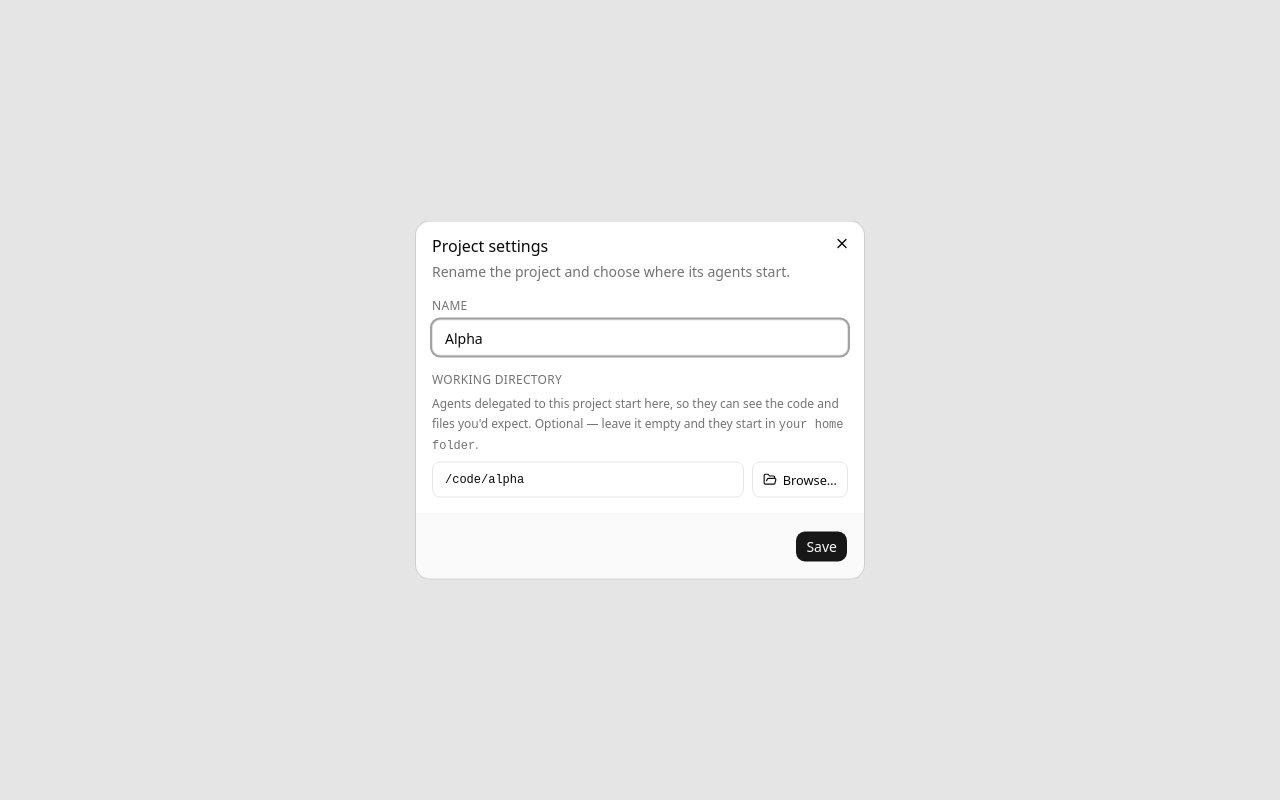
Test: saving › keeps the dialog open and shows why when the save fails
The image size is (1280, 800).
Replace the text in the field labelled "Name" with "Renamed" at [640, 338], box [432, 320, 848, 356]
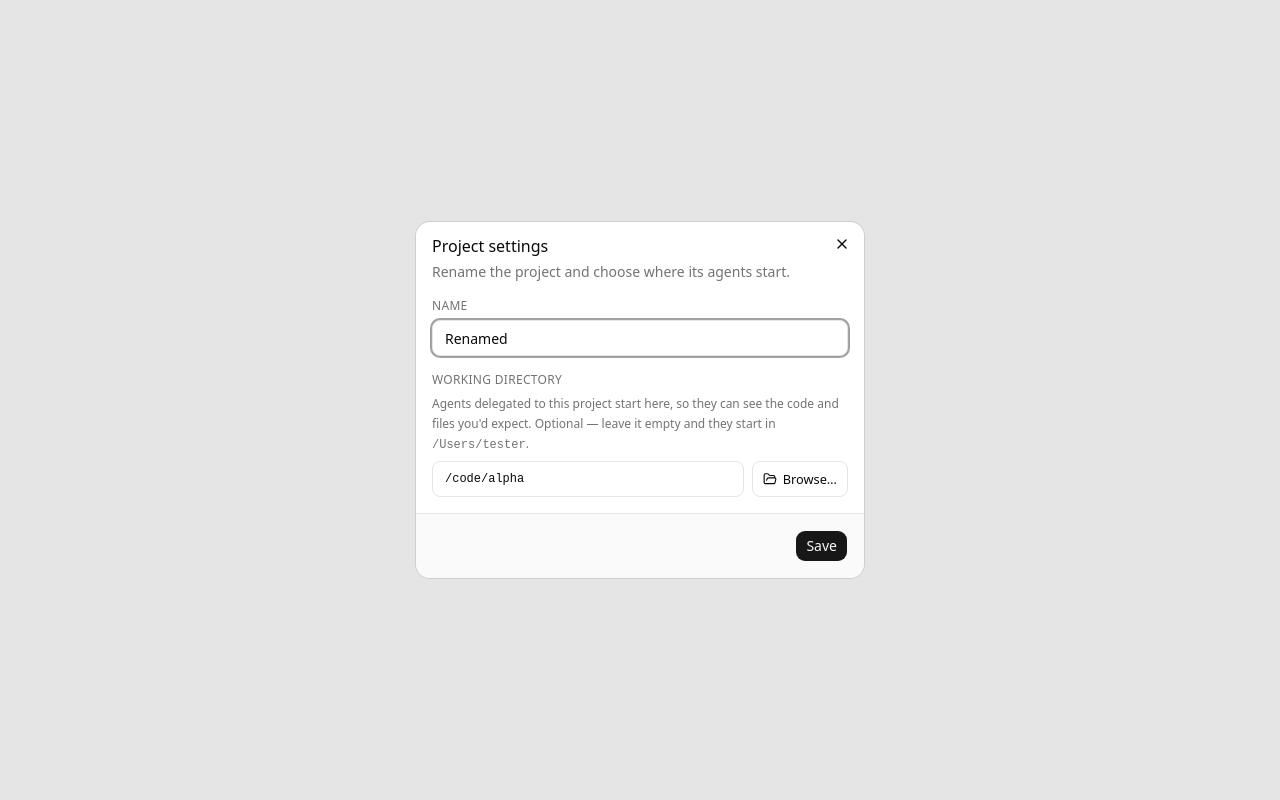
Click the button "Save" at [822, 546], box [795, 530, 848, 562]
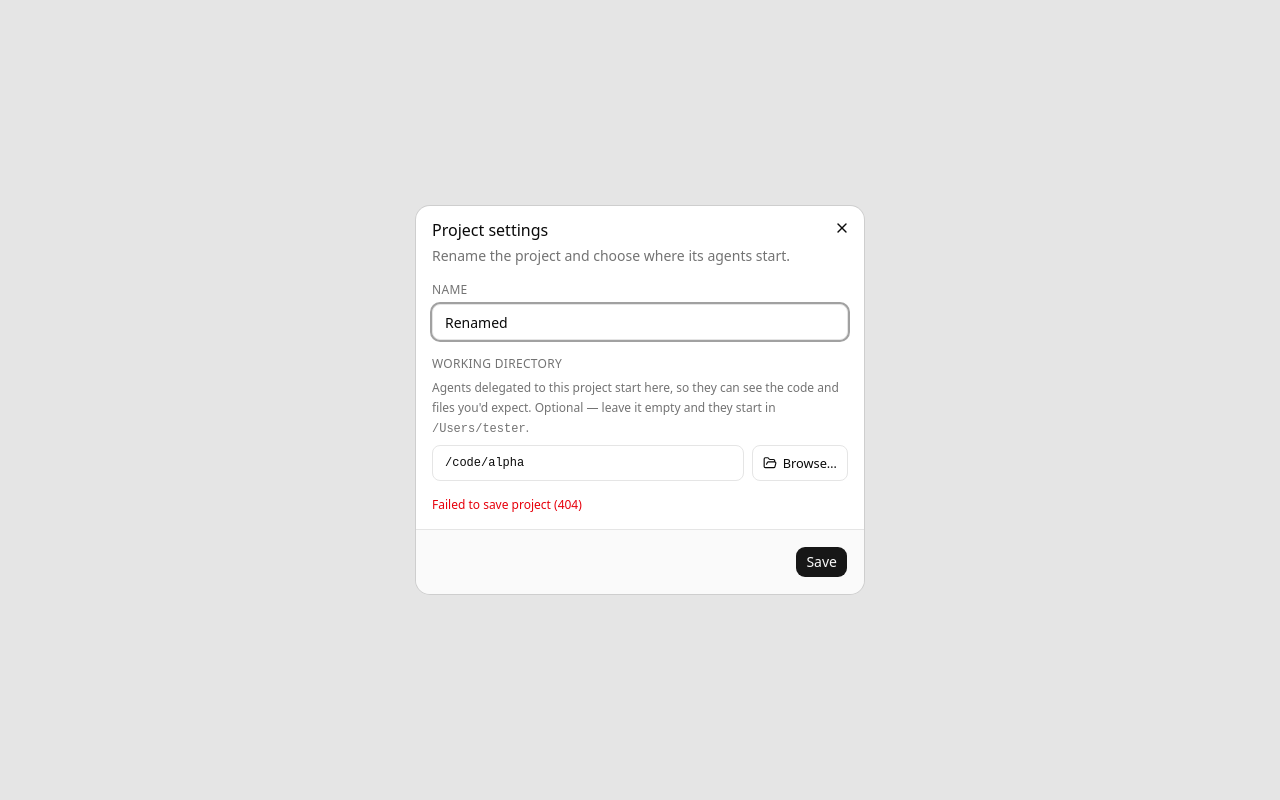
expect the text "Failed to save project (404)" is shown: met, box [432, 496, 582, 513]
